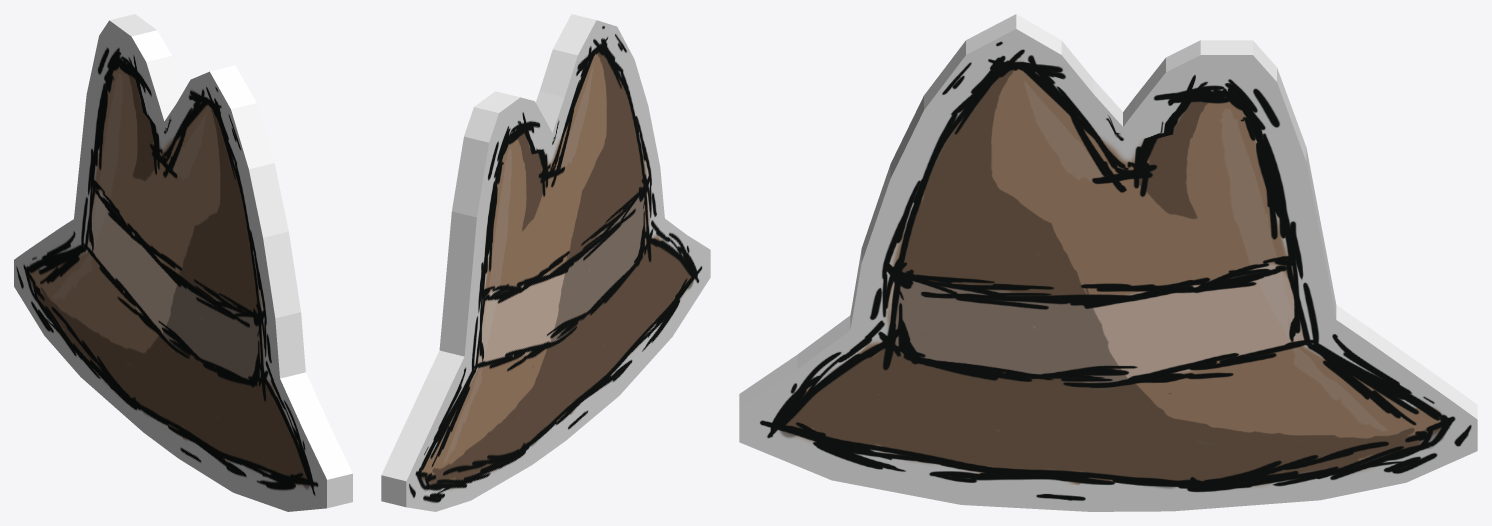
File: Sombrero.fbx
3 views of the same model, side by side, from view 1: azimuth 30°, elevation 25°; view 2: azimuth 150°, elevation 25°; view 3: azimuth 270°, elevation 25° (orthographic). The views are drawn at different scales.
Parts seen in each view (by area): view 1: Sombrero; view 2: Sombrero; view 3: Sombrero.
Boxes of the visible parts, x1,y1,x2,y2 form: Sombrero: [14, 14, 352, 511]; Sombrero: [381, 14, 710, 511]; Sombrero: [739, 14, 1477, 511].
Bounding box in the file's own units: 6.42 × 97.35 × 135.
